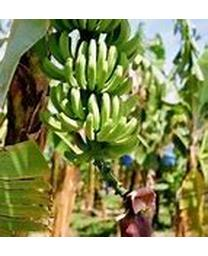banana: (43, 33, 144, 168)
